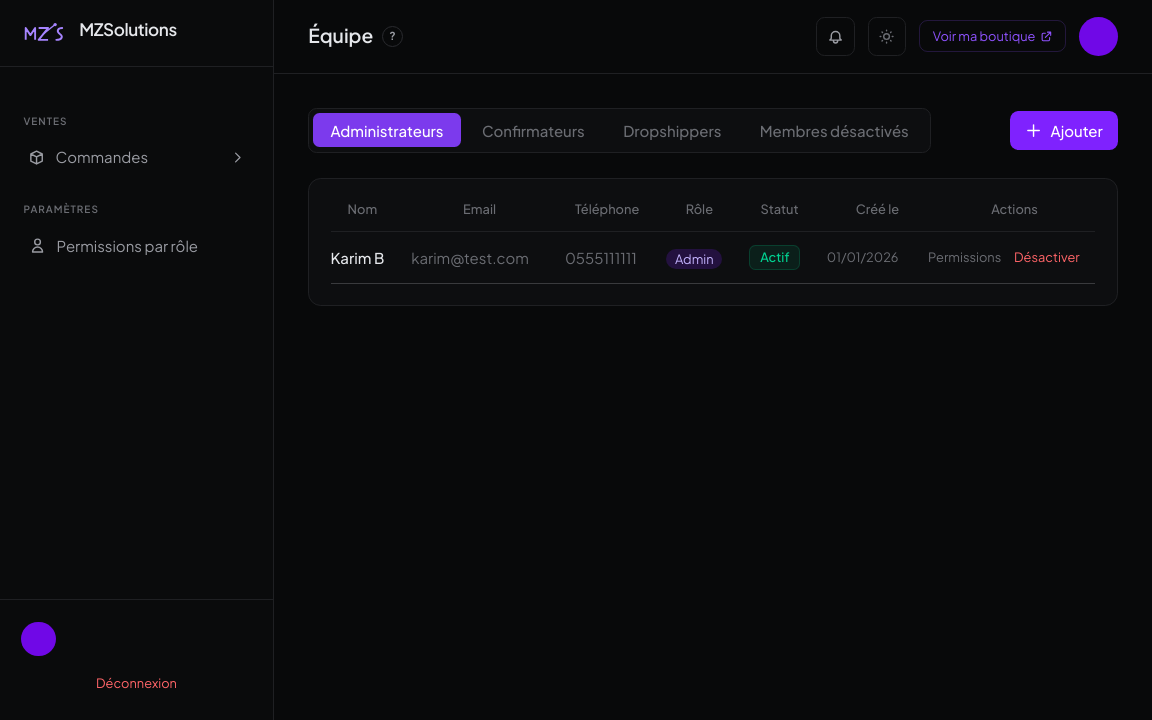
Test: TeamPage › invites a new member via the modal and shows a confirmation banner
The width and height of the screenshot is (1152, 720).
Expected: the text "Karim B" is shown, [330,231,411,284]
Click the button "Ajouter" at (1064, 130), box [1010,111,1118,150]
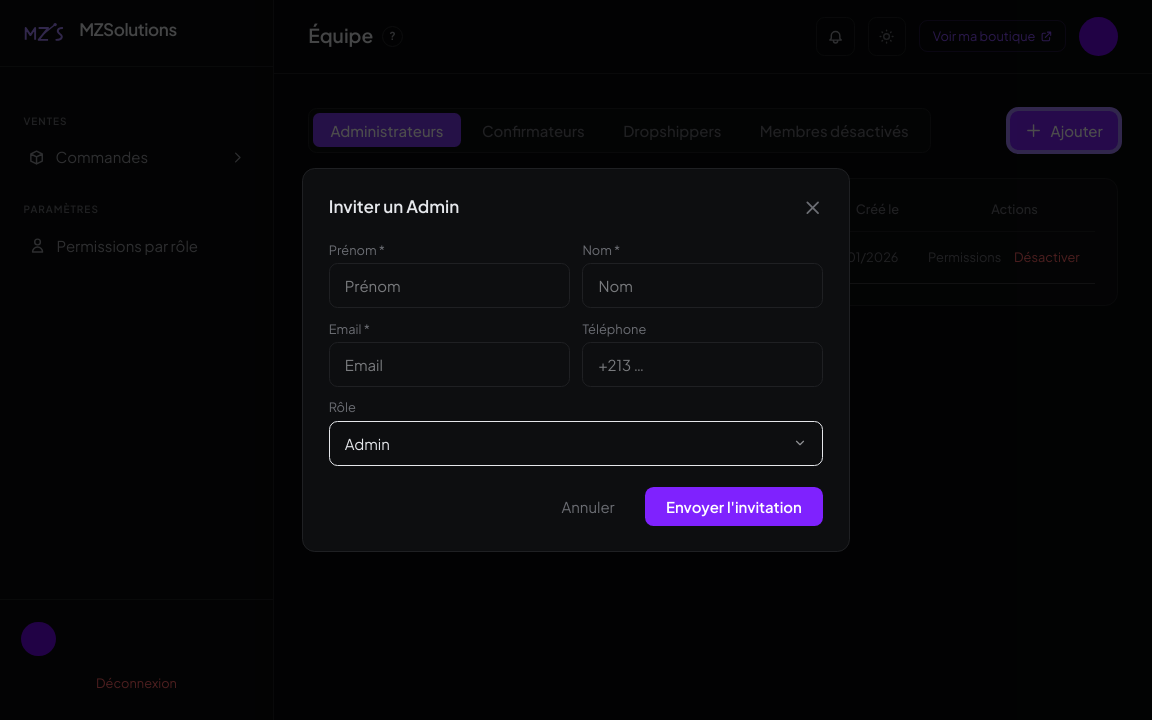
Type "Sara" into the field with placeholder "Prénom" at (449, 285), box [329,263,570,308]
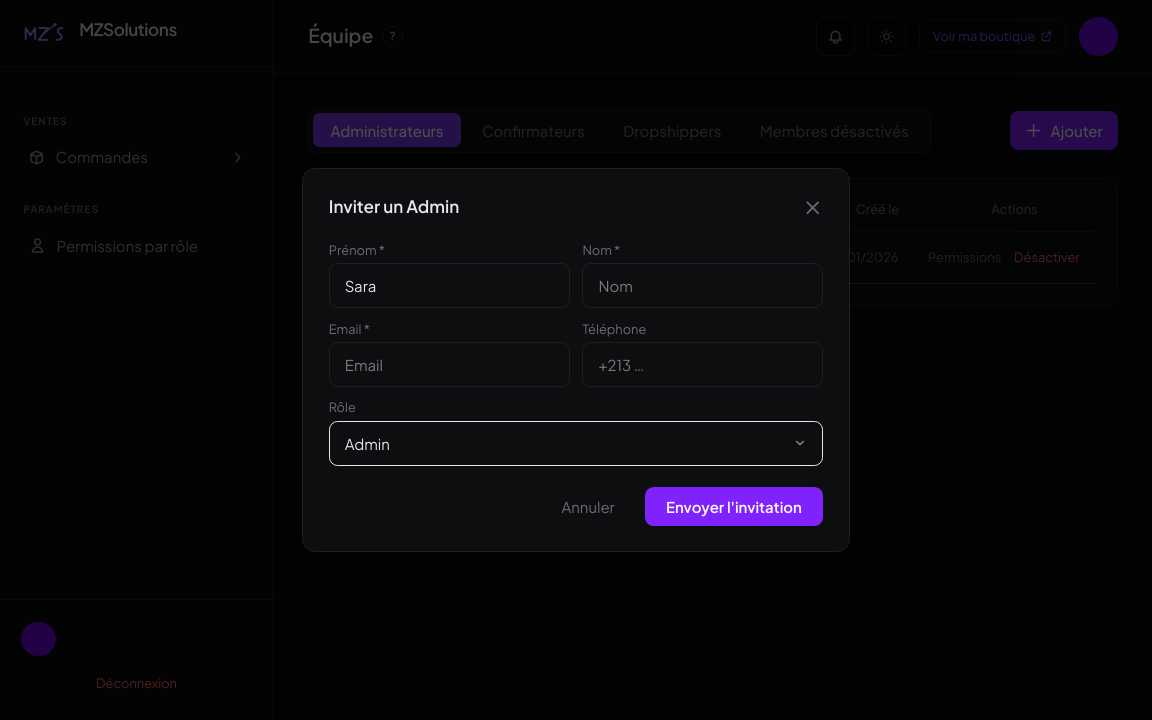
Type "Z" into the field with placeholder "Nom" at (703, 285), box [582,263,823,308]
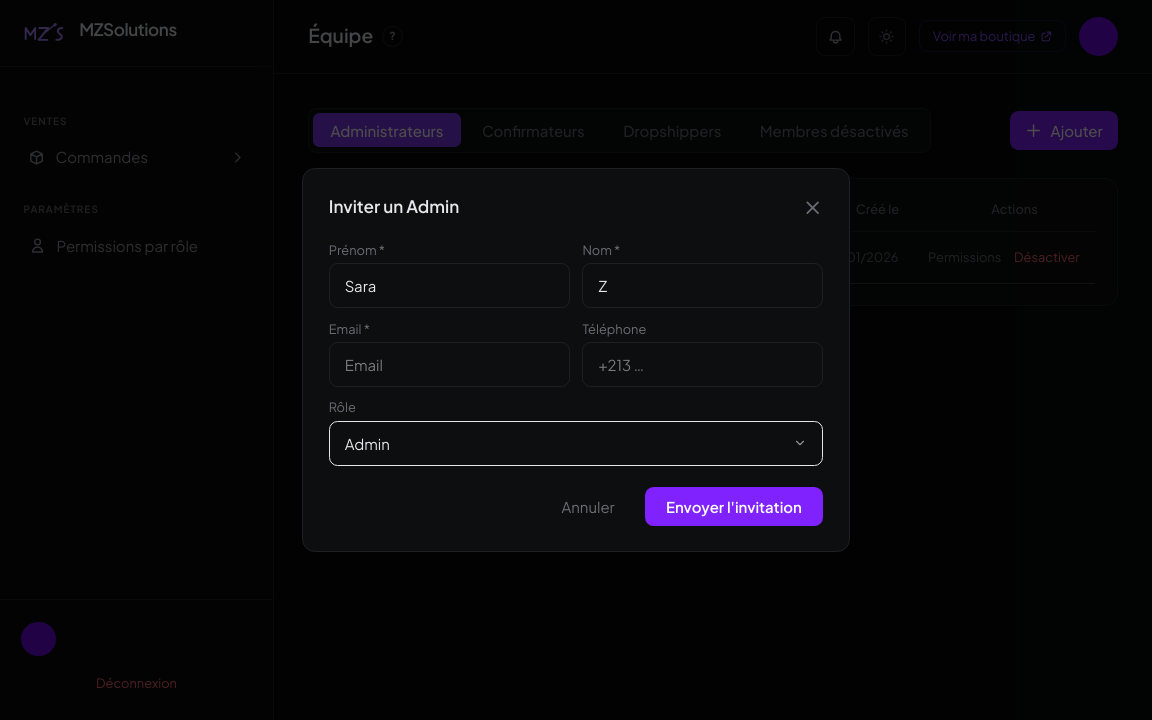
Type "sara@test.com" into the field with placeholder "Email" at (449, 364), box [329,342,570,387]
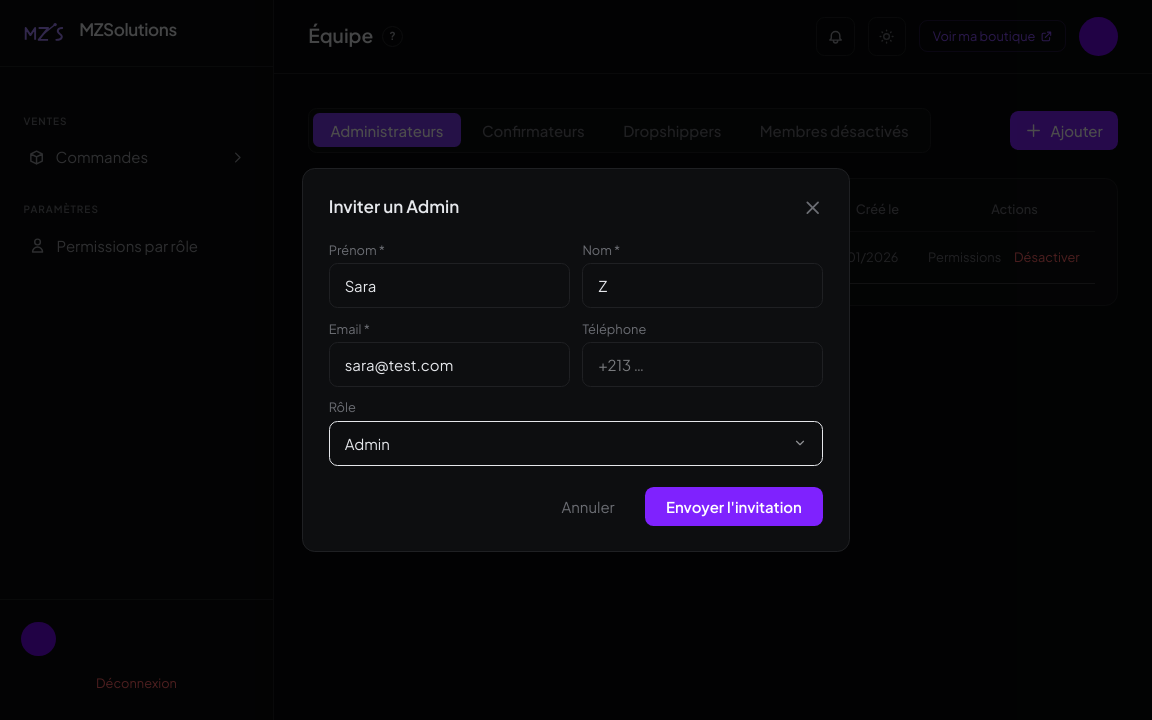
Click the button "Envoyer l'invitation" at (734, 506), box [645,487,823,526]
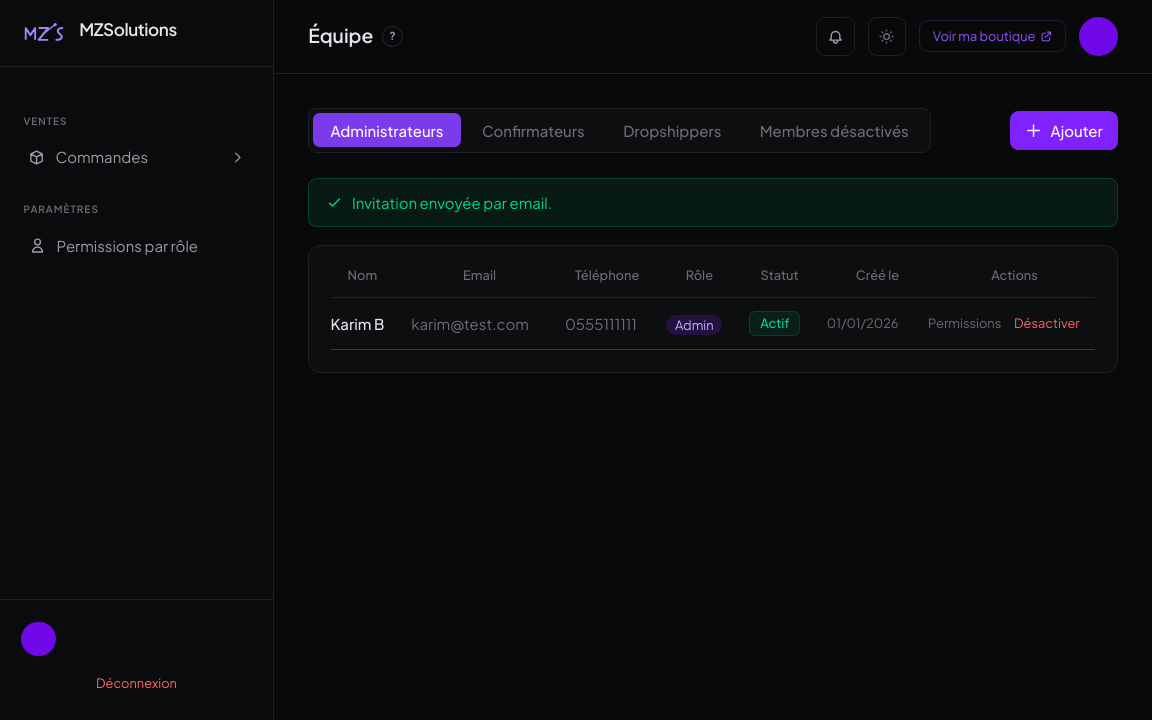
Now the text "Invitation envoyée par email." is shown, box [308,178,1118,228]
